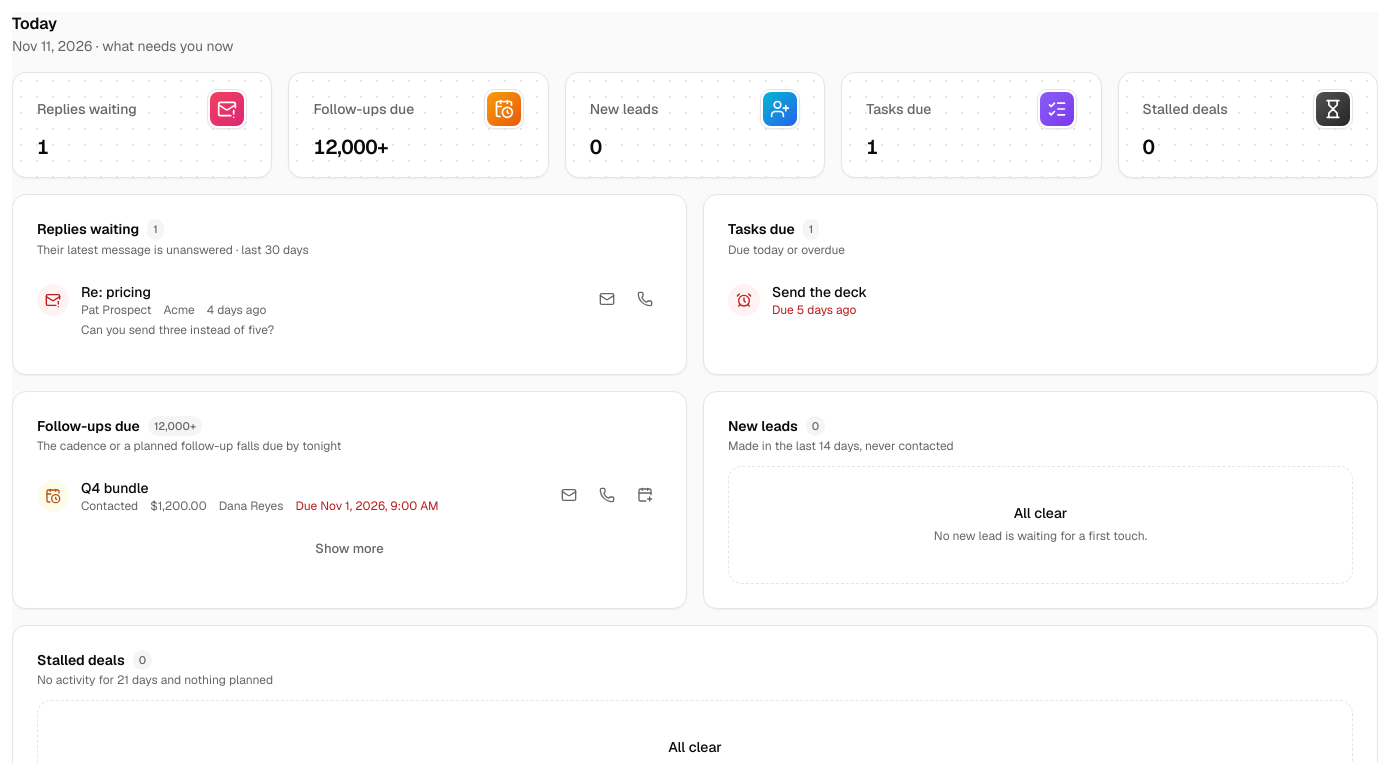
Test: #360 the day’s work on the dashboard › pages a section on "Show more" from the overview’s cursor
What coordinates should you click on to do the following:
click the button "Show more"
I would click on:
 (349, 549)
Its box is [304,534,395,564].
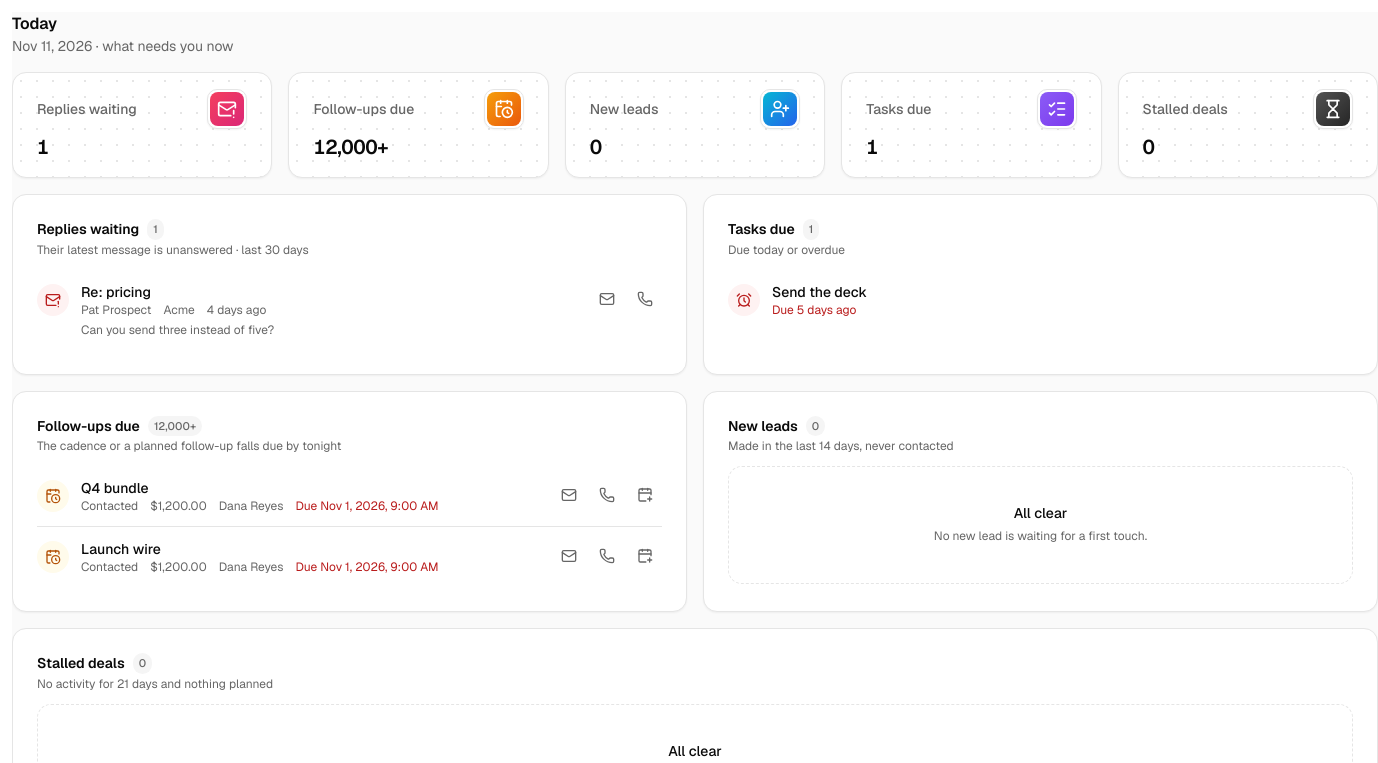
Expected: the link "Launch wire" is shown, [81,540,161,558]
Expected: the button "Show more" is gone
